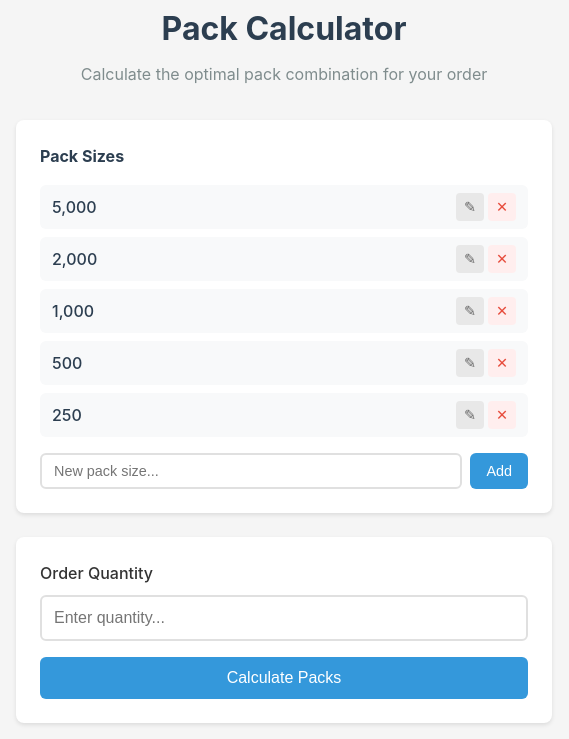
Test: OrderForm validation › shows validation error for invalid input
Expected: the text "5,000" is shown, x1=52 y1=195 x2=97 y2=220
In the number field labelled "Order Quantity": (284, 618) x1=40 y1=595 x2=528 y2=641, type "0"
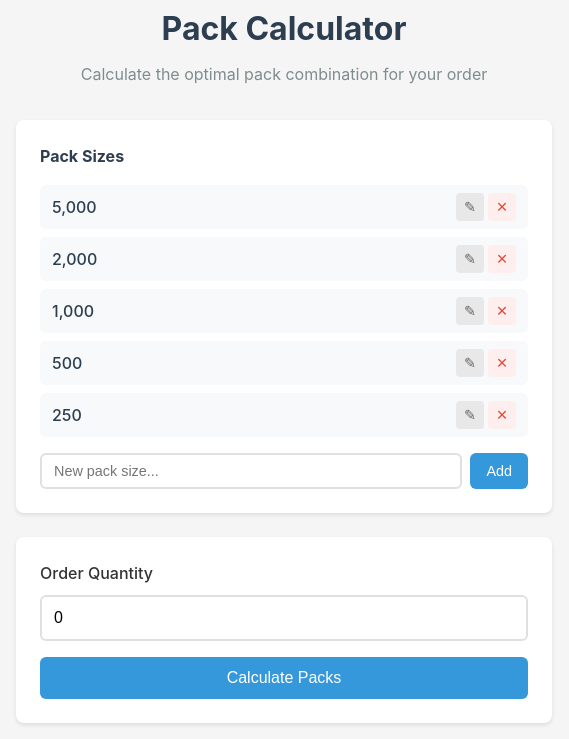
Submit the form with test id "order-form", box x1=16 y1=537 x2=552 y2=723
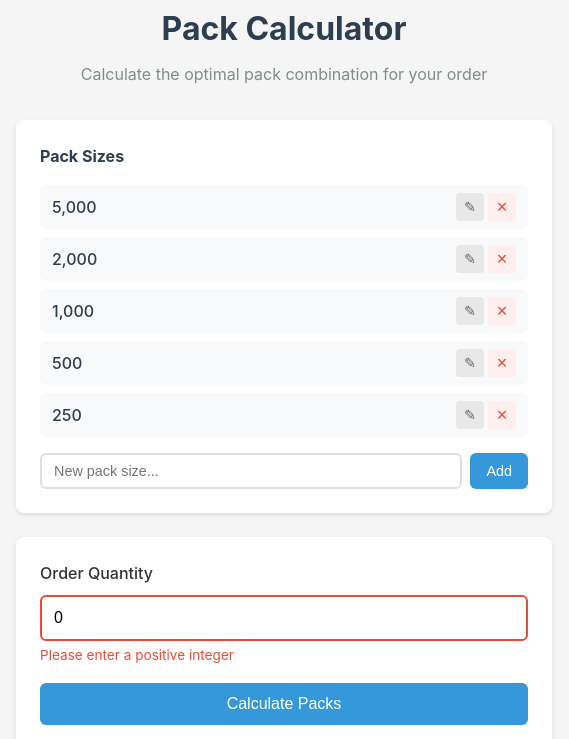
Expected: the text "Please enter a positive integer" is shown, x1=40 y1=647 x2=234 y2=663
